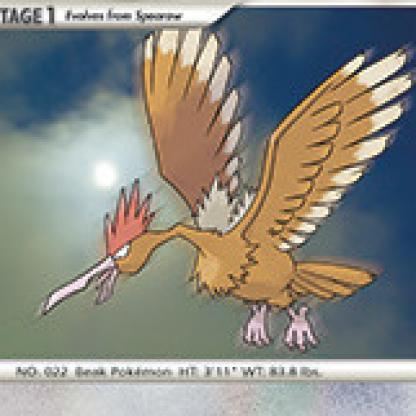Fearow: (35, 24, 415, 358)
